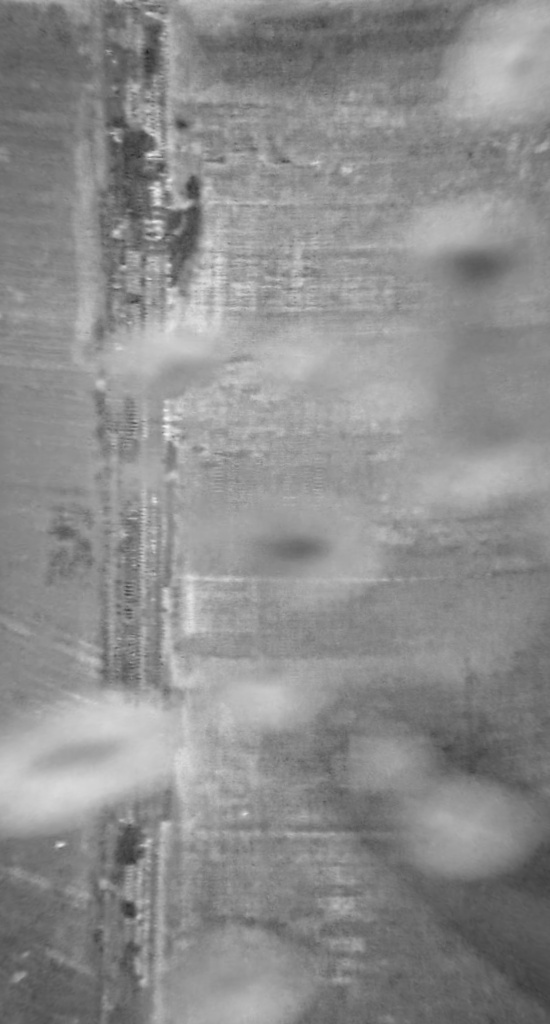splice: (90, 1, 187, 1023)
